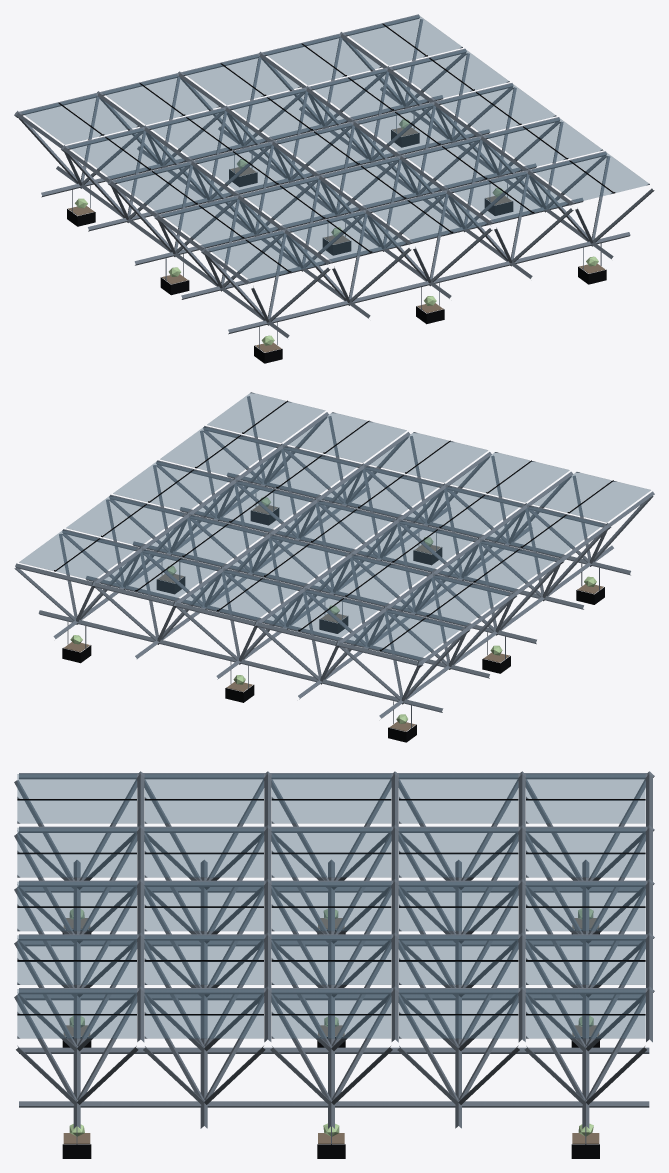
The picture shows the model from 3 angles, top to bottom: view 1: azimuth 30°, elevation 25°; view 2: azimuth 150°, elevation 25°; view 3: azimuth 270°, elevation 25°; orthographic projection. The views are drawn at different scales.
Visible parts, largest first — view 1: Roof_Glass_Panes, Space_Frame, Planter_Trough, Glazing_Bars, Planter_Soil, Foliage; view 2: Roof_Glass_Panes, Space_Frame, Planter_Trough, Glazing_Bars, Planter_Soil, Foliage; view 3: Roof_Glass_Panes, Space_Frame, Glazing_Bars, Planter_Trough, Planter_Soil, Foliage.
Part boxes in pixels (x1,y1,x2,y2): Roof_Glass_Panes: (21, 15, 649, 281); Space_Frame: (14, 14, 654, 338); Planter_Trough: (67, 130, 606, 363); Glazing_Bars: (58, 23, 615, 272); Planter_Soil: (68, 127, 605, 352); Foliage: (75, 119, 598, 345); Roof_Glass_Panes: (19, 392, 650, 659); Space_Frame: (14, 396, 654, 718); Planter_Trough: (62, 508, 604, 742); Glazing_Bars: (54, 400, 613, 650); Planter_Soil: (63, 505, 603, 731); Foliage: (70, 497, 596, 723); Roof_Glass_Panes: (17, 774, 645, 1038); Space_Frame: (14, 771, 654, 1128); Glazing_Bars: (17, 799, 645, 1015); Planter_Trough: (62, 929, 599, 1158); Planter_Soil: (63, 918, 599, 1143); Foliage: (69, 908, 593, 1136).
Bounding box in the file's own units: 20.15 × 4.85 × 20.16.
Materials: 5 (3 with a texture image).
